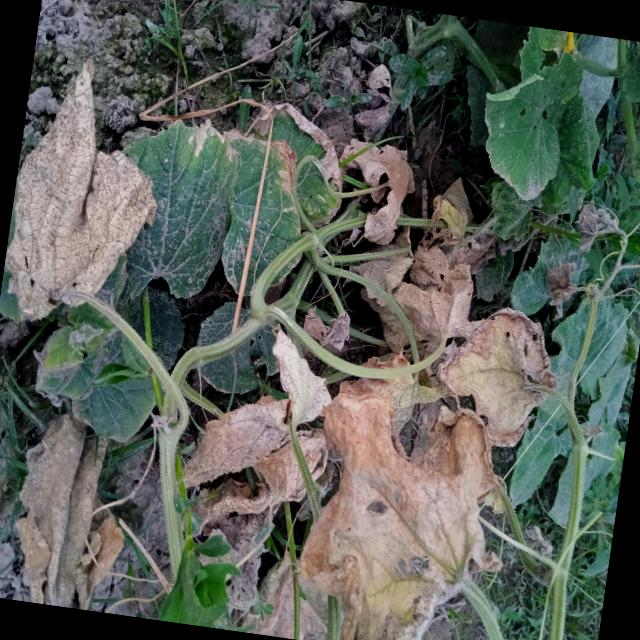cucumber_bacterial: (276, 358, 528, 640), (0, 54, 169, 345), (158, 404, 342, 640), (424, 292, 605, 473), (108, 105, 247, 308), (251, 312, 361, 444)
